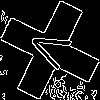V: (25, 25, 81, 75)
